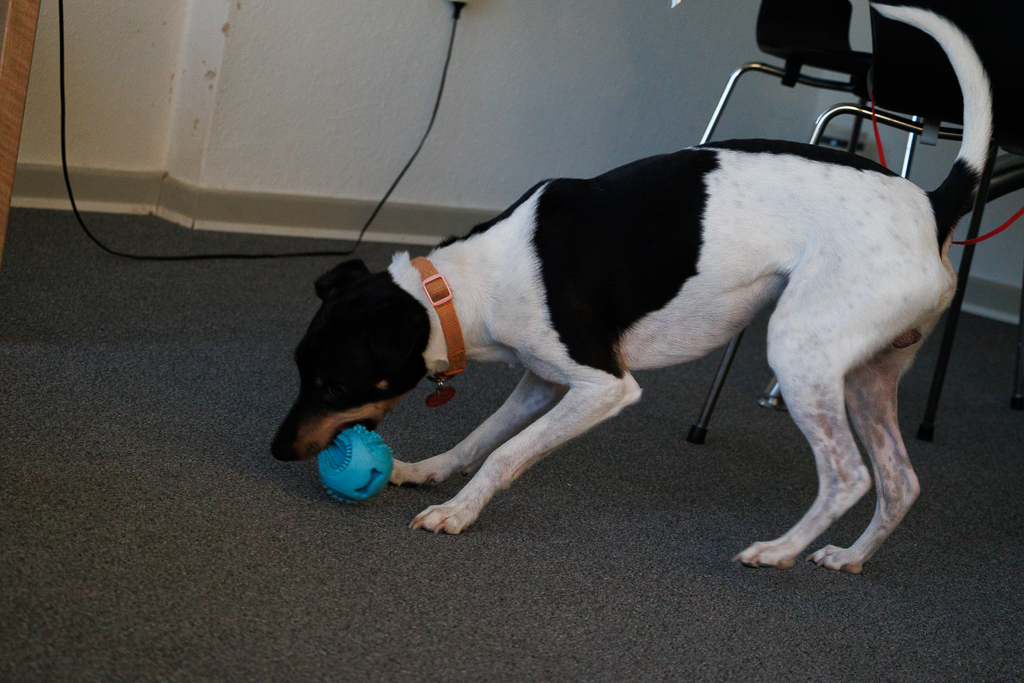Dog: (259, 0, 999, 585)
